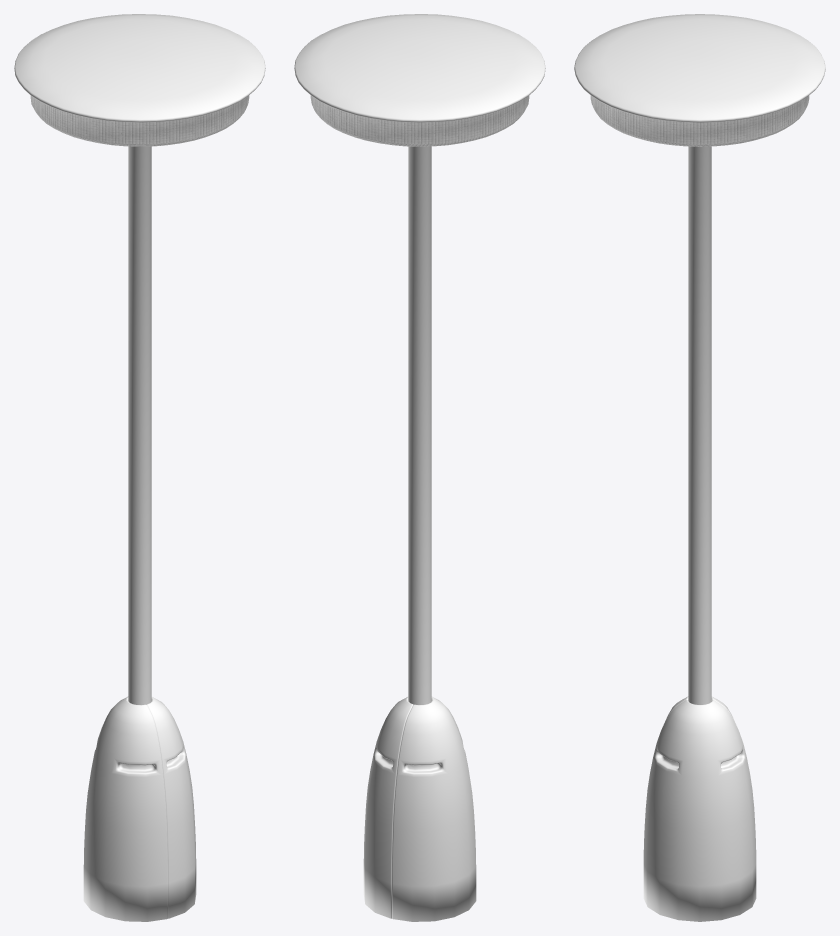
File: licht-modern.glb
The picture shows the model from 3 angles, left to right: view 1: azimuth 30°, elevation 25°; view 2: azimuth 150°, elevation 25°; view 3: azimuth 270°, elevation 25°; orthographic projection.
Parts seen in each view (by area): view 1: Street lamp; view 2: Street lamp; view 3: Street lamp.
Boxes of the visible parts, left/top/right/bottom form: Street lamp: left=14, top=14, right=265, bottom=921; Street lamp: left=294, top=14, right=545, bottom=921; Street lamp: left=574, top=14, right=825, bottom=921.
Size of the model in its own units: 0.7831 by 2.9 by 0.7831.
3 materials, 1 textured.
